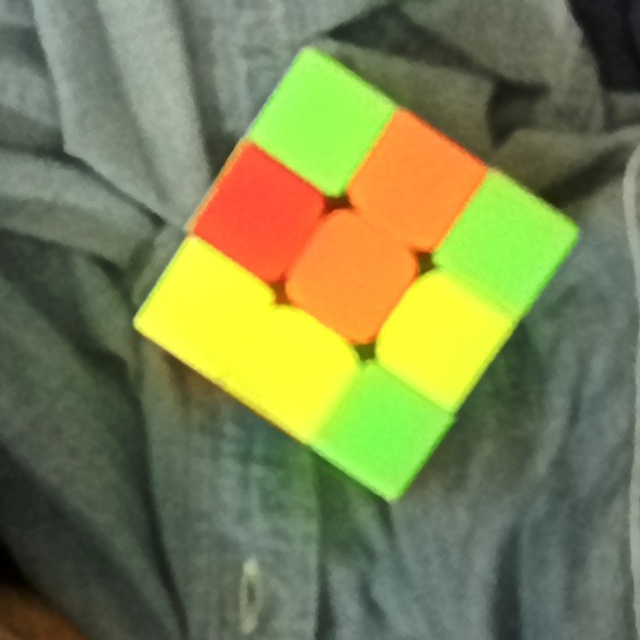tile: (280, 89, 360, 160), (314, 240, 390, 314), (375, 149, 458, 216), (256, 331, 331, 405), (347, 395, 426, 463), (222, 175, 296, 247), (471, 210, 546, 281), (171, 269, 240, 345), (409, 301, 483, 368)
